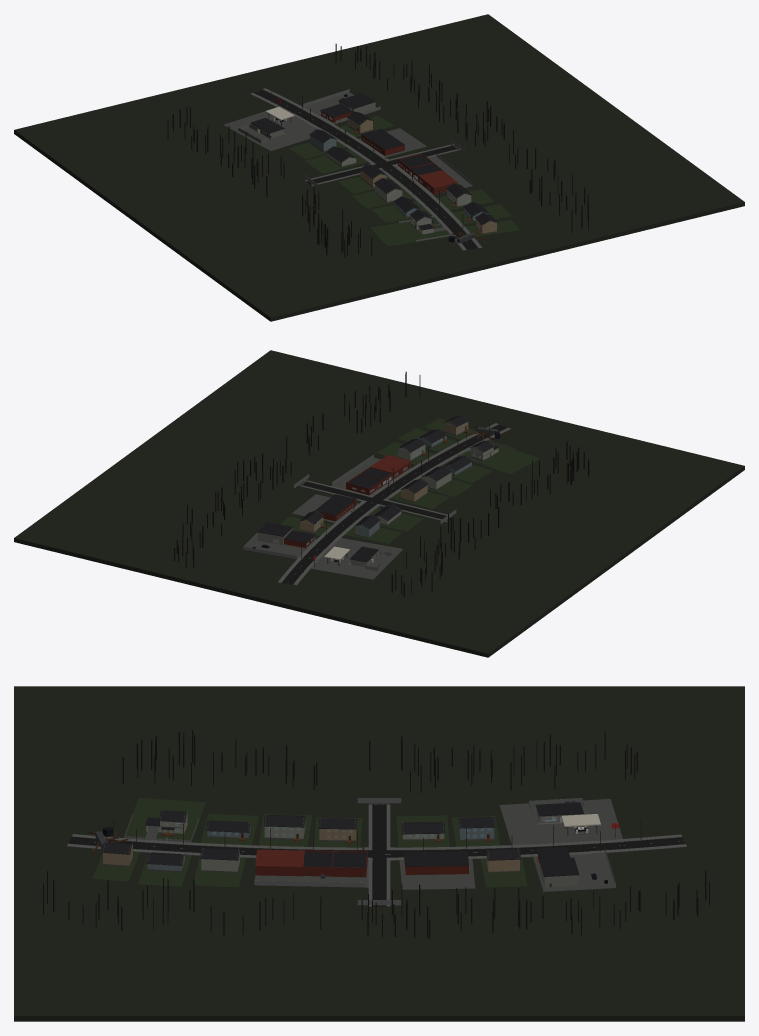
Rendered from town_greybox.glb.
3 renders of one model, top to bottom at view 1: azimuth 30°, elevation 25°; view 2: azimuth 150°, elevation 25°; view 3: azimuth 270°, elevation 25°, orthographic. The views are drawn at different scales.
Visible parts, largest first — view 1: terrain__terrain, edges__bark, street__asphalt, street__sidewalk, gas_station__concrete, clark__grass, brick_row__brick, miller__roof, filler_w_-29__grass; view 2: terrain__terrain, edges__bark, street__asphalt, street__sidewalk, gas_station__concrete, clark__grass, brick_row__brick, miller__roof, miller__concrete; view 3: terrain__terrain, edges__bark, street__asphalt, street__sidewalk, gas_station__concrete, brick_row__brick, clark__grass, filler_e_-38__concrete, miller__concrete, miller__roof, brick_row__roof, filler_e_-38__roof (+12 smaller).
Boxes of the visible parts, bbox=[...] form: terrain__terrain: bbox=[14, 14, 744, 321]; edges__bark: bbox=[167, 43, 588, 257]; street__asphalt: bbox=[254, 89, 478, 249]; street__sidewalk: bbox=[250, 88, 482, 250]; gas_station__concrete: bbox=[223, 106, 315, 150]; clark__grass: bbox=[370, 217, 448, 246]; brick_row__brick: bbox=[398, 153, 457, 194]; miller__roof: bbox=[320, 93, 376, 117]; filler_w_-29__grass: bbox=[305, 149, 367, 173]; terrain__terrain: bbox=[14, 350, 744, 657]; edges__bark: bbox=[174, 371, 589, 596]; street__asphalt: bbox=[282, 424, 507, 584]; street__sidewalk: bbox=[277, 423, 510, 585]; gas_station__concrete: bbox=[307, 538, 402, 579]; clark__grass: bbox=[457, 442, 540, 474]; brick_row__brick: bbox=[346, 455, 411, 494]; miller__roof: bbox=[257, 522, 315, 542]; miller__concrete: bbox=[246, 535, 316, 558]; terrain__terrain: bbox=[14, 686, 744, 1021]; edges__bark: bbox=[43, 730, 709, 939]; street__asphalt: bbox=[68, 803, 685, 906]; street__sidewalk: bbox=[67, 804, 686, 906]; gas_station__concrete: bbox=[499, 799, 623, 848]; brick_row__brick: bbox=[255, 849, 367, 877]; clark__grass: bbox=[125, 798, 205, 845]; filler_e_-38__concrete: bbox=[399, 859, 475, 889]; miller__concrete: bbox=[532, 853, 613, 891]; miller__roof: bbox=[537, 847, 579, 876]; brick_row__roof: bbox=[303, 851, 366, 869]; filler_e_-38__roof: bbox=[404, 851, 468, 866].
Size of the model in its own units: 320 by 17.58 by 300.
